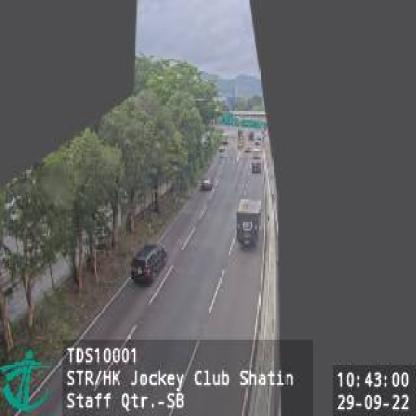Car: (129, 239, 169, 283), (195, 175, 212, 192), (250, 158, 261, 172)
Truck: (235, 196, 258, 246)
